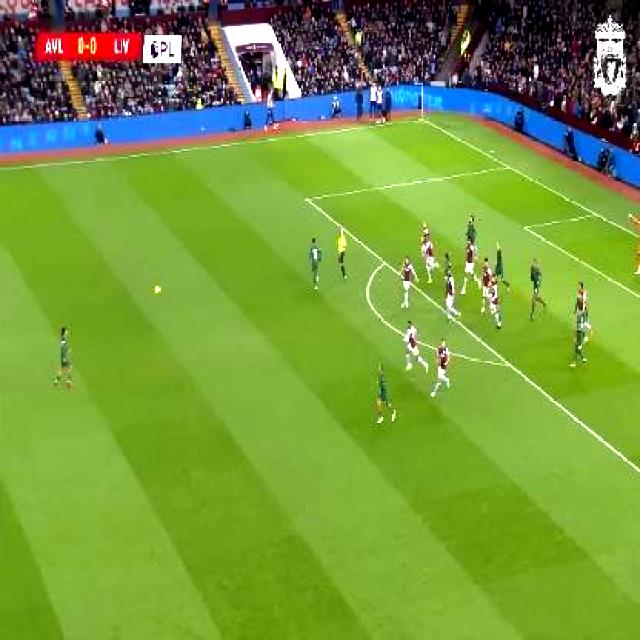bigarea_top_inner: (303, 192, 312, 205)
bigarea_top_outter: (505, 162, 512, 172)
bottom_arc_area_intersection: (501, 356, 514, 372)
corner: (416, 115, 426, 122)
smallarea_top_inner: (520, 220, 531, 234)
smallarea_top_outter: (591, 208, 598, 220)
top_arc_area_intersection: (378, 255, 388, 268)
